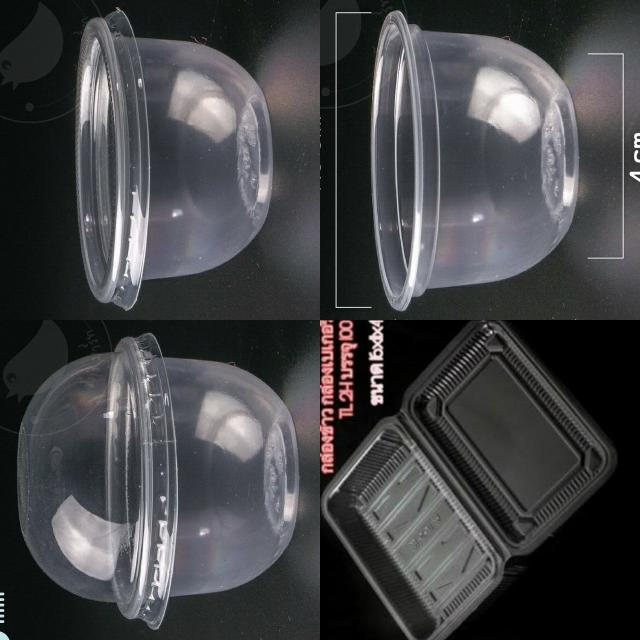Single-Use-Plastic: (322, 321, 616, 640), (18, 334, 299, 628), (371, 11, 579, 310), (76, 10, 272, 309)
